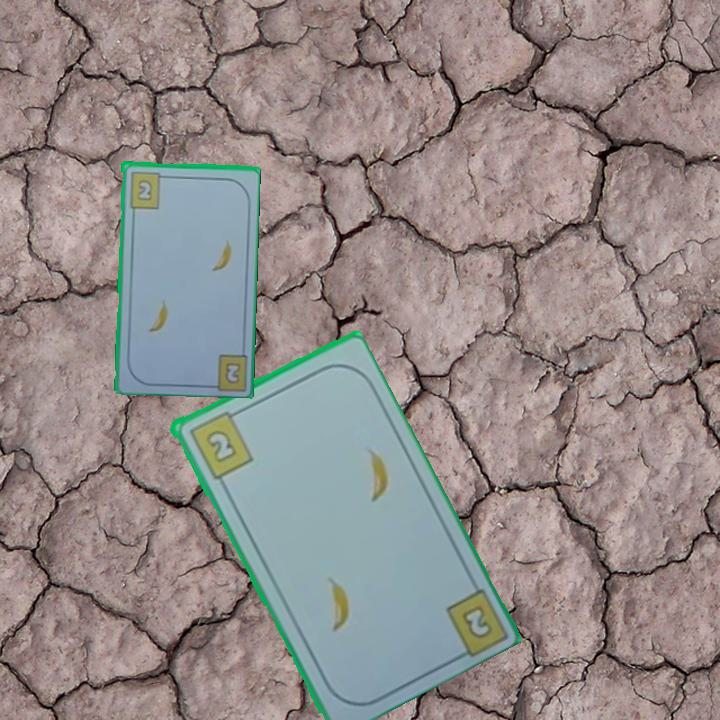2b: (184, 406, 256, 482), (126, 168, 169, 211), (458, 601, 495, 642), (222, 358, 243, 387)
